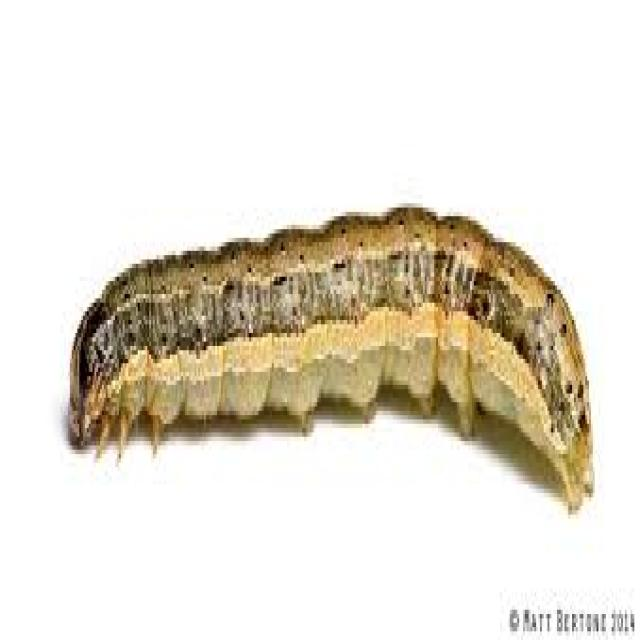Army Worm: (65, 190, 600, 554)
